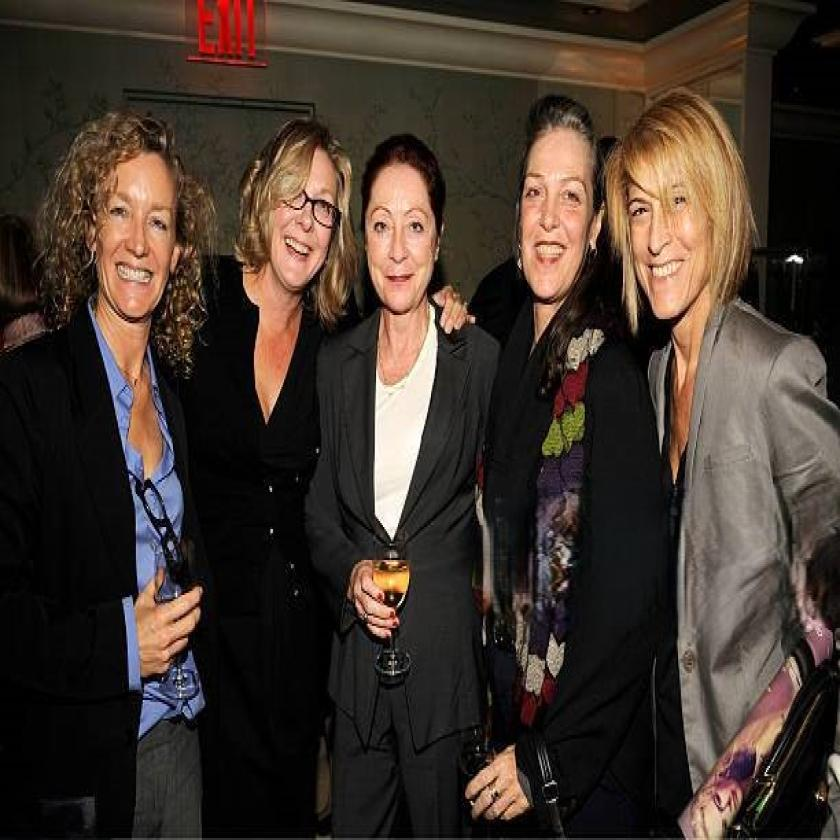Sin_casco: (612, 87, 738, 348), (72, 96, 197, 345), (515, 87, 604, 314), (260, 112, 354, 322), (360, 127, 450, 328)
